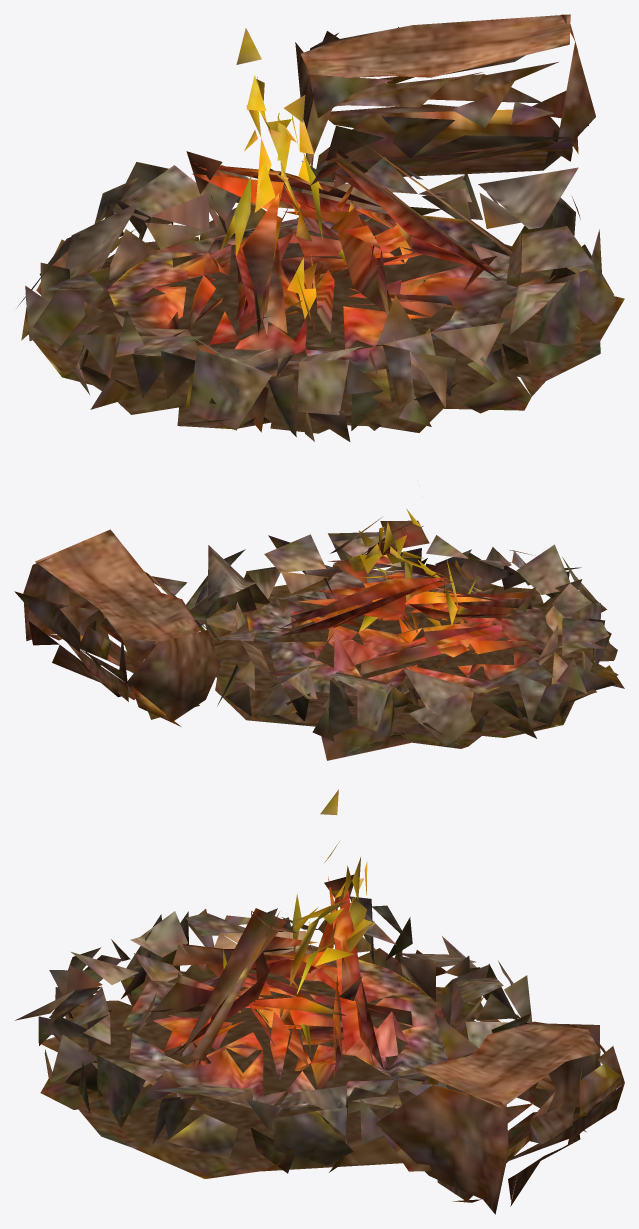
Rendered from fogueira_lod2.glb.
3 views of the same model, one above another, from view 1: azimuth 30°, elevation 25°; view 2: azimuth 150°, elevation 25°; view 3: azimuth 270°, elevation 25° (orthographic). The views are drawn at different scales.
Parts seen in each view (by area): view 1: fogueira; view 2: fogueira; view 3: fogueira.
Boxes of the visible parts, x1,y1,x2,y2 form: fogueira: (16, 14, 624, 441); fogueira: (14, 508, 624, 760); fogueira: (15, 789, 624, 1214).
Bounding box in the file's own units: 2 × 0.8948 × 1.83.
1 material, 1 textured.
